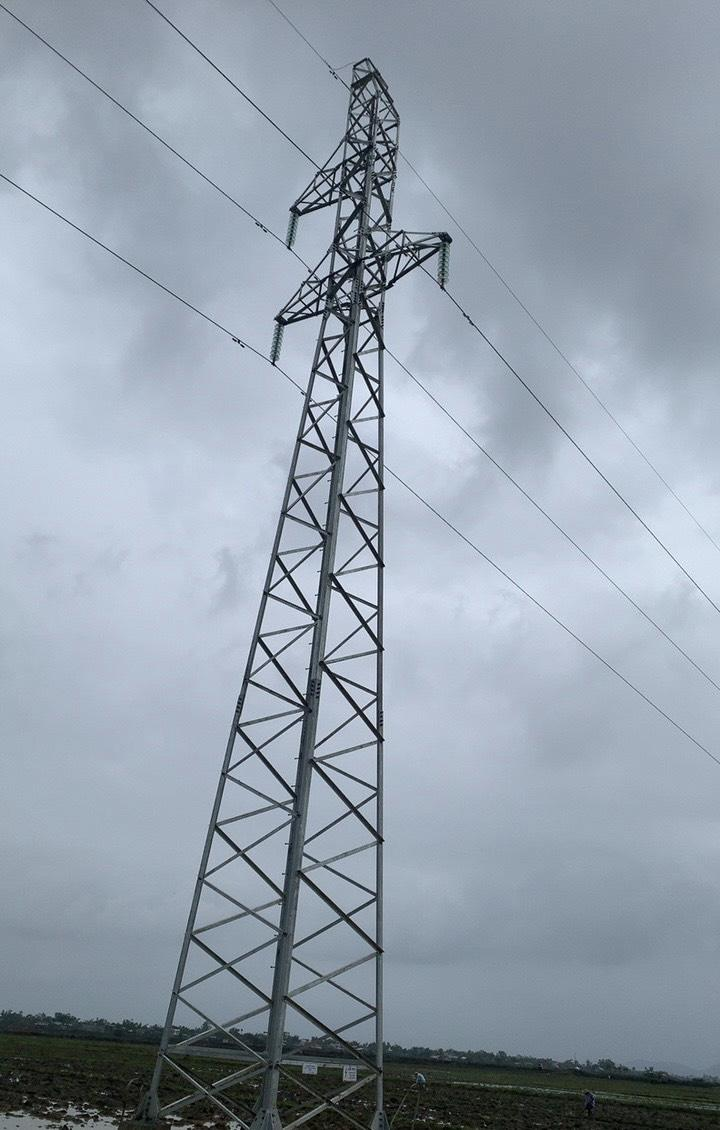power_tower: (155, 42, 405, 1105)
